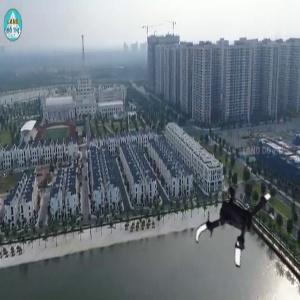drone: (190, 171, 289, 270)
